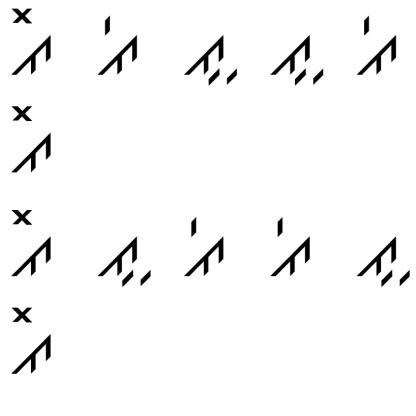kah: (84, 222, 156, 289), (176, 22, 240, 90), (263, 25, 328, 89), (352, 227, 413, 288)
ke: (172, 207, 230, 285), (260, 212, 318, 280), (93, 6, 143, 80), (355, 15, 403, 80)
ko: (4, 203, 71, 290), (3, 100, 58, 176), (6, 301, 57, 378), (7, 3, 59, 76)
